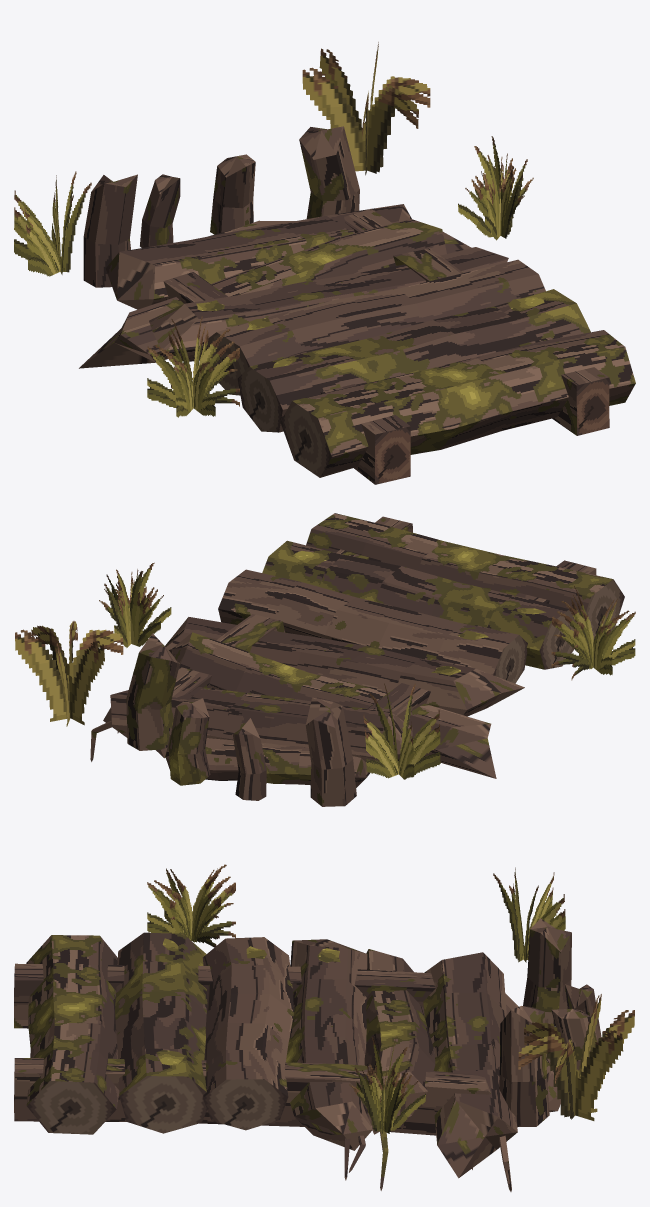
The model's file is SM_SW13_CorduroyEnd.fbx.
3 views of the same model, one above another, from view 1: azimuth 30°, elevation 25°; view 2: azimuth 150°, elevation 25°; view 3: azimuth 270°, elevation 25° (orthographic). The views are drawn at different scales.
Parts seen in each view (by area): view 1: SW13e_Bark, SW13e_Plants, SW13e_BarkMossy, SW13e_Props, SW13e_Moss; view 2: SW13e_Bark, SW13e_Plants, SW13e_BarkMossy, SW13e_Props, SW13e_Moss; view 3: SW13e_Bark, SW13e_Plants, SW13e_BarkMossy, SW13e_Props, SW13e_Moss.
Part boxes in pixels (x1=…): SW13e_Bark: x1=79, y1=126, x2=635, y2=484; SW13e_Plants: x1=14, y1=42, x2=533, y2=417; SW13e_BarkMossy: x1=250, y1=289, x2=590, y2=432; SW13e_Props: x1=202, y1=332, x2=609, y2=484; SW13e_Moss: x1=196, y1=297, x2=544, y2=367; SW13e_Bark: x1=90, y1=513, x2=613, y2=806; SW13e_Plants: x1=15, y1=562, x2=635, y2=779; SW13e_BarkMossy: x1=262, y1=540, x2=568, y2=669; SW13e_Props: x1=493, y1=579, x2=624, y2=683; SW13e_Moss: x1=293, y1=550, x2=545, y2=675; SW13e_Bark: x1=14, y1=918, x2=601, y2=1191; SW13e_Plants: x1=147, y1=864, x2=634, y2=1134; SW13e_BarkMossy: x1=115, y1=932, x2=207, y2=1095; SW13e_Props: x1=14, y1=1064, x2=288, y2=1134; SW13e_Moss: x1=156, y1=938, x2=340, y2=1065.
Size of the model in its own units: 3.6 by 1.47 by 4.21.
